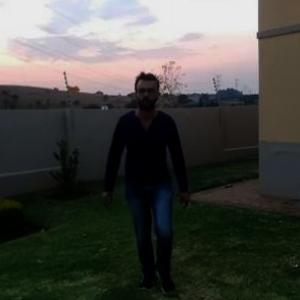follow: (114, 74, 186, 290)
